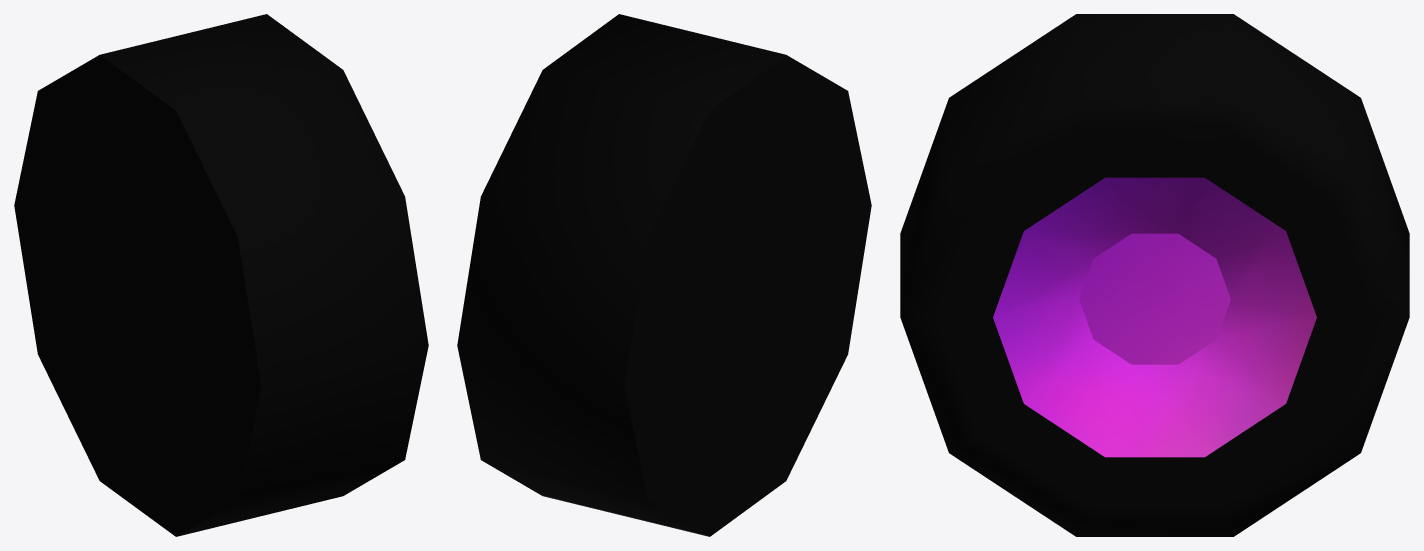
File: Whell_3.fbx
3 views of the same model, side by side, from view 1: azimuth 30°, elevation 25°; view 2: azimuth 150°, elevation 25°; view 3: azimuth 270°, elevation 25° (orthographic). The views are drawn at different scales.
Visible parts, largest first — view 1: Whell_3; view 2: Whell_3; view 3: Whell_3.
Boxes of the visible parts, left/top/right/bottom form: Whell_3: left=14, top=14, right=428, bottom=536; Whell_3: left=457, top=14, right=871, bottom=536; Whell_3: left=900, top=14, right=1409, bottom=536.
Bounding box in the file's own units: 29.43 × 71.68 × 75.37.
Materials: 1 (1 with a texture image).
